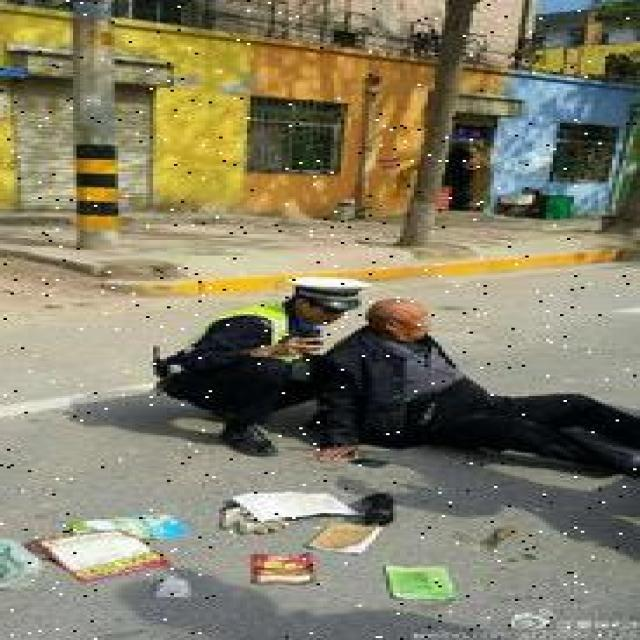fall: (334, 302, 636, 462)
